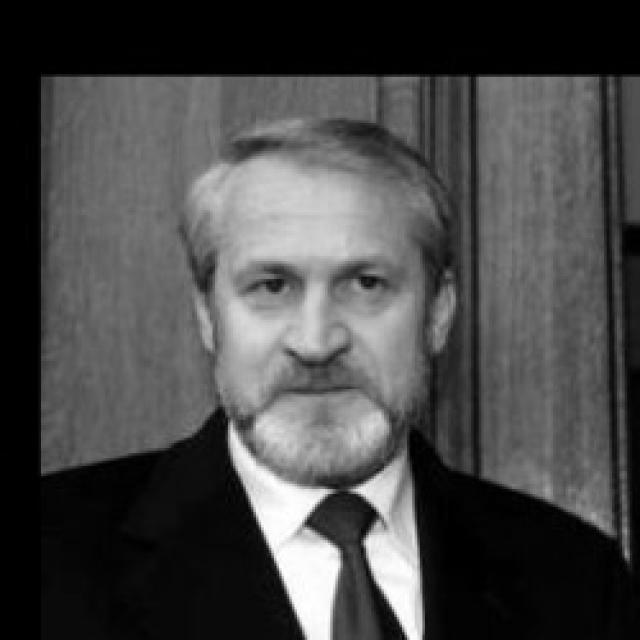real: (214, 154, 428, 475), (230, 258, 401, 312)
